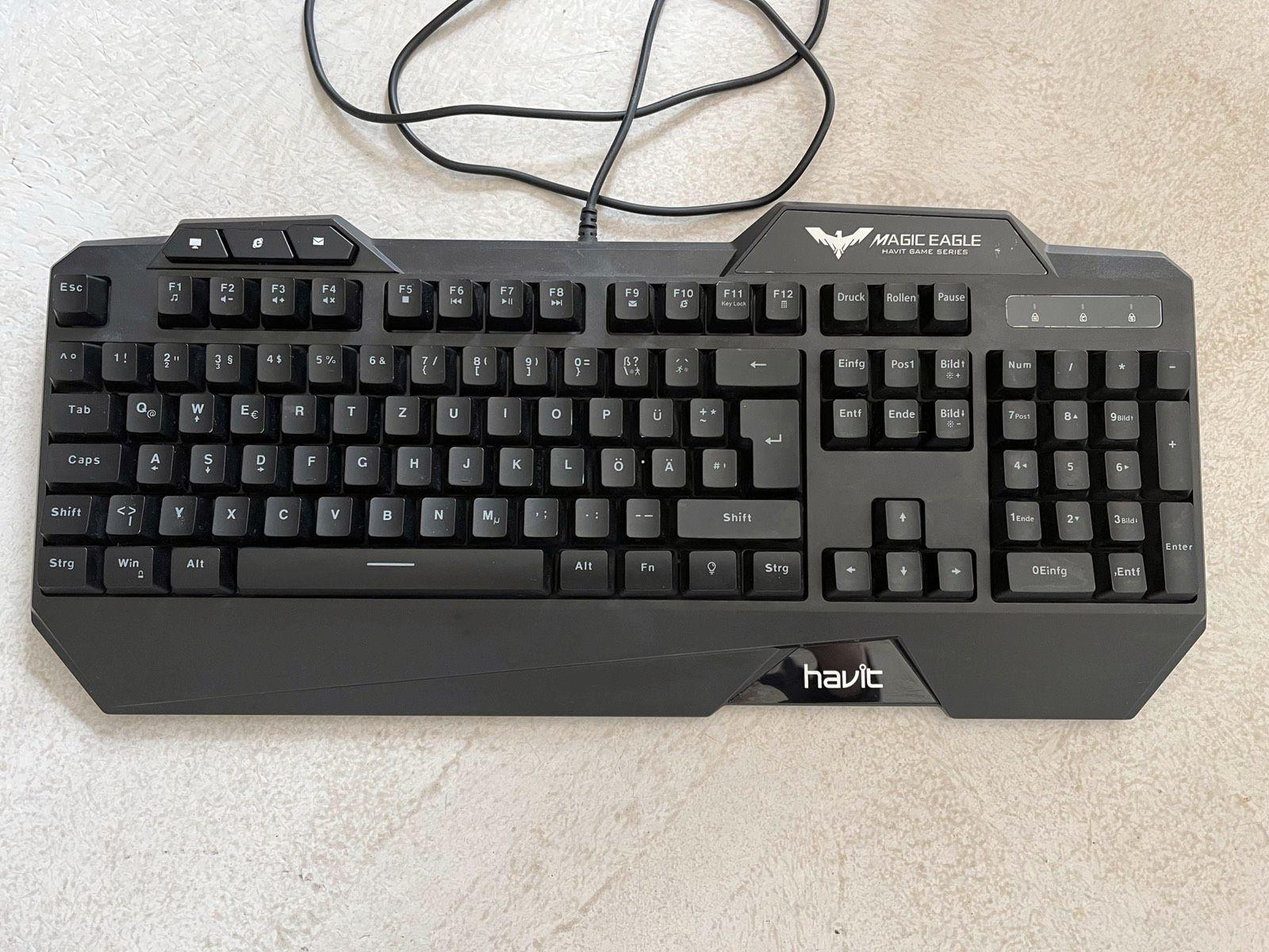0: (560, 343, 598, 384)
1: (99, 338, 137, 379)
2: (150, 338, 188, 380)
3: (203, 339, 241, 381)
4: (255, 339, 291, 381)
5: (305, 340, 343, 382)
6: (356, 340, 394, 382)
7: (408, 340, 446, 383)
8: (458, 340, 497, 384)
9: (510, 342, 548, 384)
a: (134, 440, 172, 482)
accent: (661, 343, 698, 384)
ae: (648, 444, 685, 486)
alt-left: (167, 543, 220, 589)
altgr-right: (555, 546, 608, 590)
b: (366, 493, 404, 536)
c: (262, 493, 301, 535)
caret: (48, 337, 85, 380)
comma: (520, 493, 558, 536)
d: (239, 440, 277, 482)
del: (711, 344, 799, 385)
e: (227, 390, 264, 432)
enter: (736, 394, 799, 487)
f: (291, 442, 327, 482)
g: (342, 442, 379, 483)
h: (393, 443, 431, 484)
hash: (698, 445, 736, 486)
i: (485, 393, 521, 433)
j: (446, 443, 483, 484)
k: (496, 443, 533, 485)
keyboard: (29, 239, 1211, 623)
l: (546, 443, 584, 485)
less: (103, 491, 143, 533)
m: (469, 493, 507, 536)
minus: (622, 495, 660, 536)
n: (417, 493, 456, 536)
o: (535, 393, 572, 435)
oe: (598, 444, 635, 486)
p: (586, 393, 622, 435)
plus: (686, 393, 723, 435)
point: (572, 494, 609, 535)
q: (122, 389, 161, 431)
r: (278, 390, 315, 432)
s: (187, 440, 224, 482)
shift-left: (37, 490, 92, 533)
shift-lock: (40, 440, 121, 482)
shift-right: (673, 495, 799, 537)
space: (231, 543, 546, 592)
ss: (611, 344, 648, 385)
strg-left: (35, 543, 87, 588)
strg-right: (747, 547, 803, 592)
t: (330, 390, 366, 432)
tab: (44, 389, 109, 432)
u: (433, 393, 470, 434)
ue: (636, 393, 673, 436)
v: (313, 493, 352, 534)
w: (176, 389, 213, 432)
x: (209, 492, 247, 534)
y: (156, 492, 195, 534)
z: (381, 392, 419, 433)
